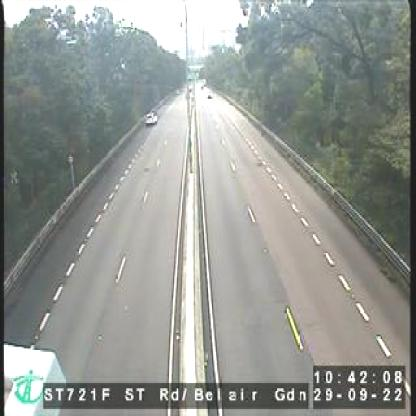Car: (144, 109, 156, 123)
